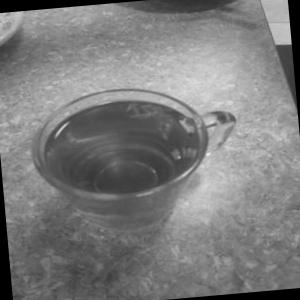tea: (3, 53, 264, 263)
